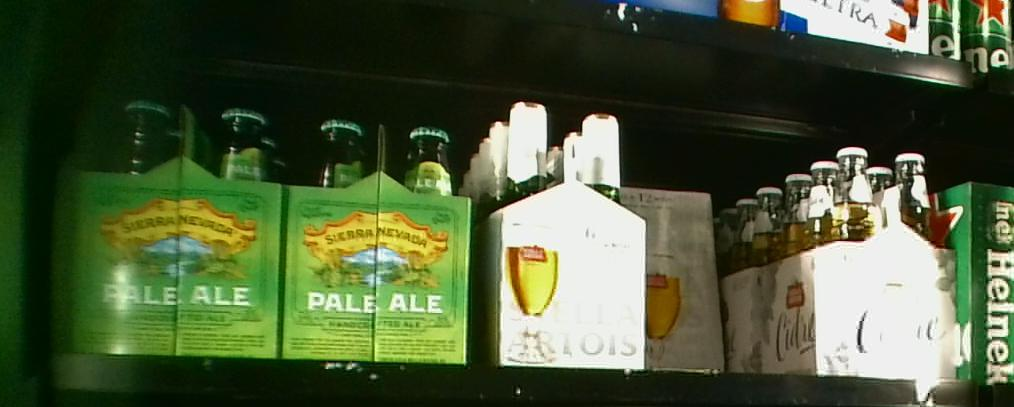bottle: (52, 83, 286, 353), (728, 147, 956, 373), (285, 121, 475, 357), (492, 103, 645, 367)
